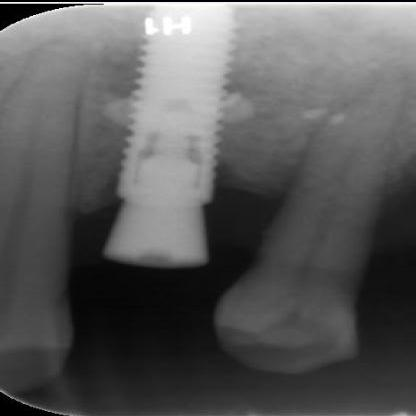ITI: (116, 8, 238, 210)
